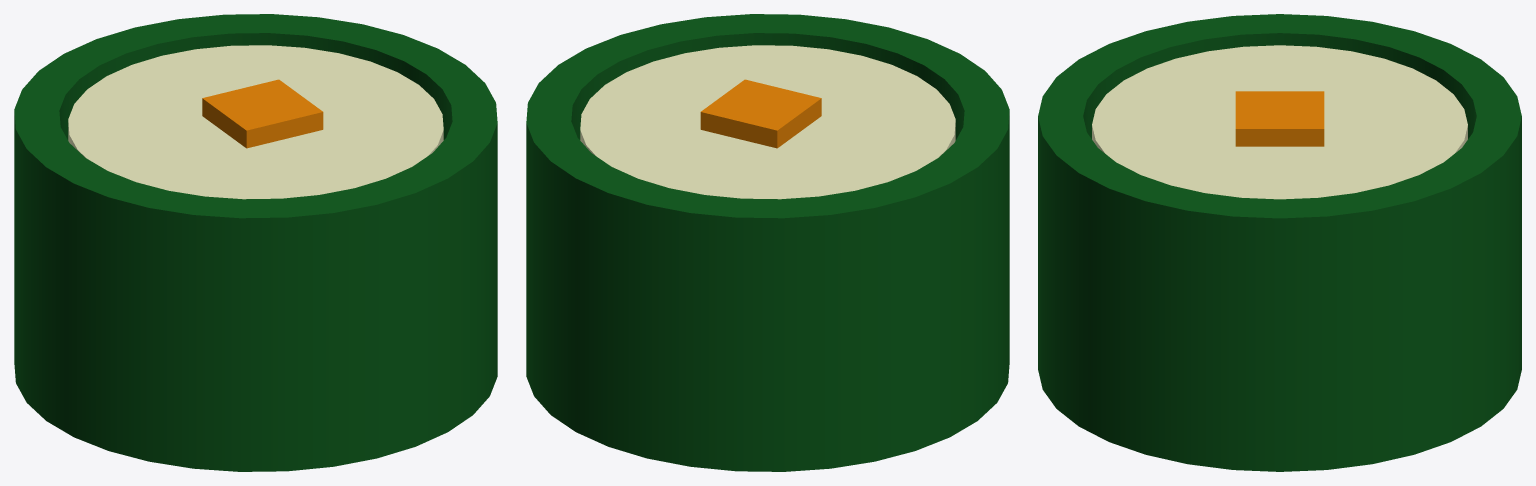
The model's file is Maki_salmon.fbx.
The picture shows the model from 3 angles, left to right: view 1: azimuth 30°, elevation 25°; view 2: azimuth 150°, elevation 25°; view 3: azimuth 270°, elevation 25°; orthographic projection.
Visible parts, largest first — view 1: Alga; view 2: Alga; view 3: Alga.
Part boxes in pixels (<box>): Alga: <box>14,14,497,471</box>; Alga: <box>526,14,1009,471</box>; Alga: <box>1038,14,1521,471</box>.
Bounding box in the file's own units: 162 × 97.29 × 162.
